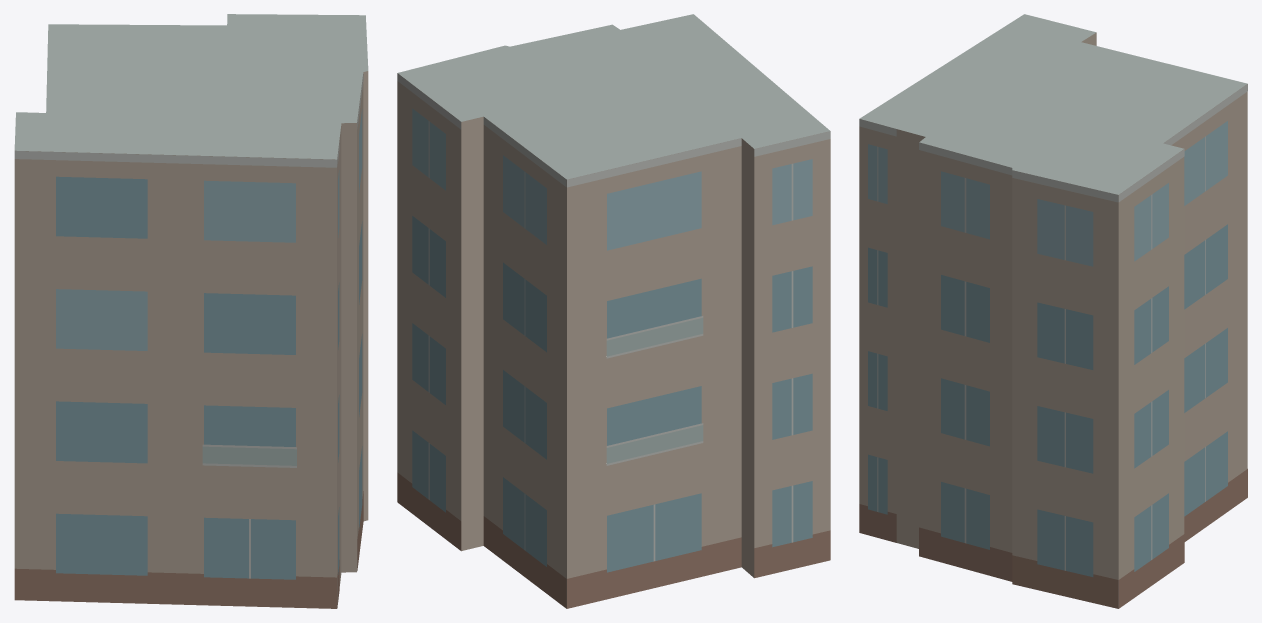
File: survey-upis-33018851.glb
3 renders of one model, left to right at view 1: azimuth 30°, elevation 25°; view 2: azimuth 150°, elevation 25°; view 3: azimuth 270°, elevation 25°, orthographic. The views are drawn at different scales.
Visible parts, largest first — view 1: survey-upis-33018851.tmp; view 2: survey-upis-33018851.tmp; view 3: survey-upis-33018851.tmp.
Boxes of the visible parts, left/top/right/bottom form: survey-upis-33018851.tmp: left=14, top=14, right=368, bottom=608; survey-upis-33018851.tmp: left=397, top=14, right=830, bottom=608; survey-upis-33018851.tmp: left=859, top=14, right=1247, bottom=608.
Bounding box in the file's own units: 12.38 × 13.2 × 11.23.
